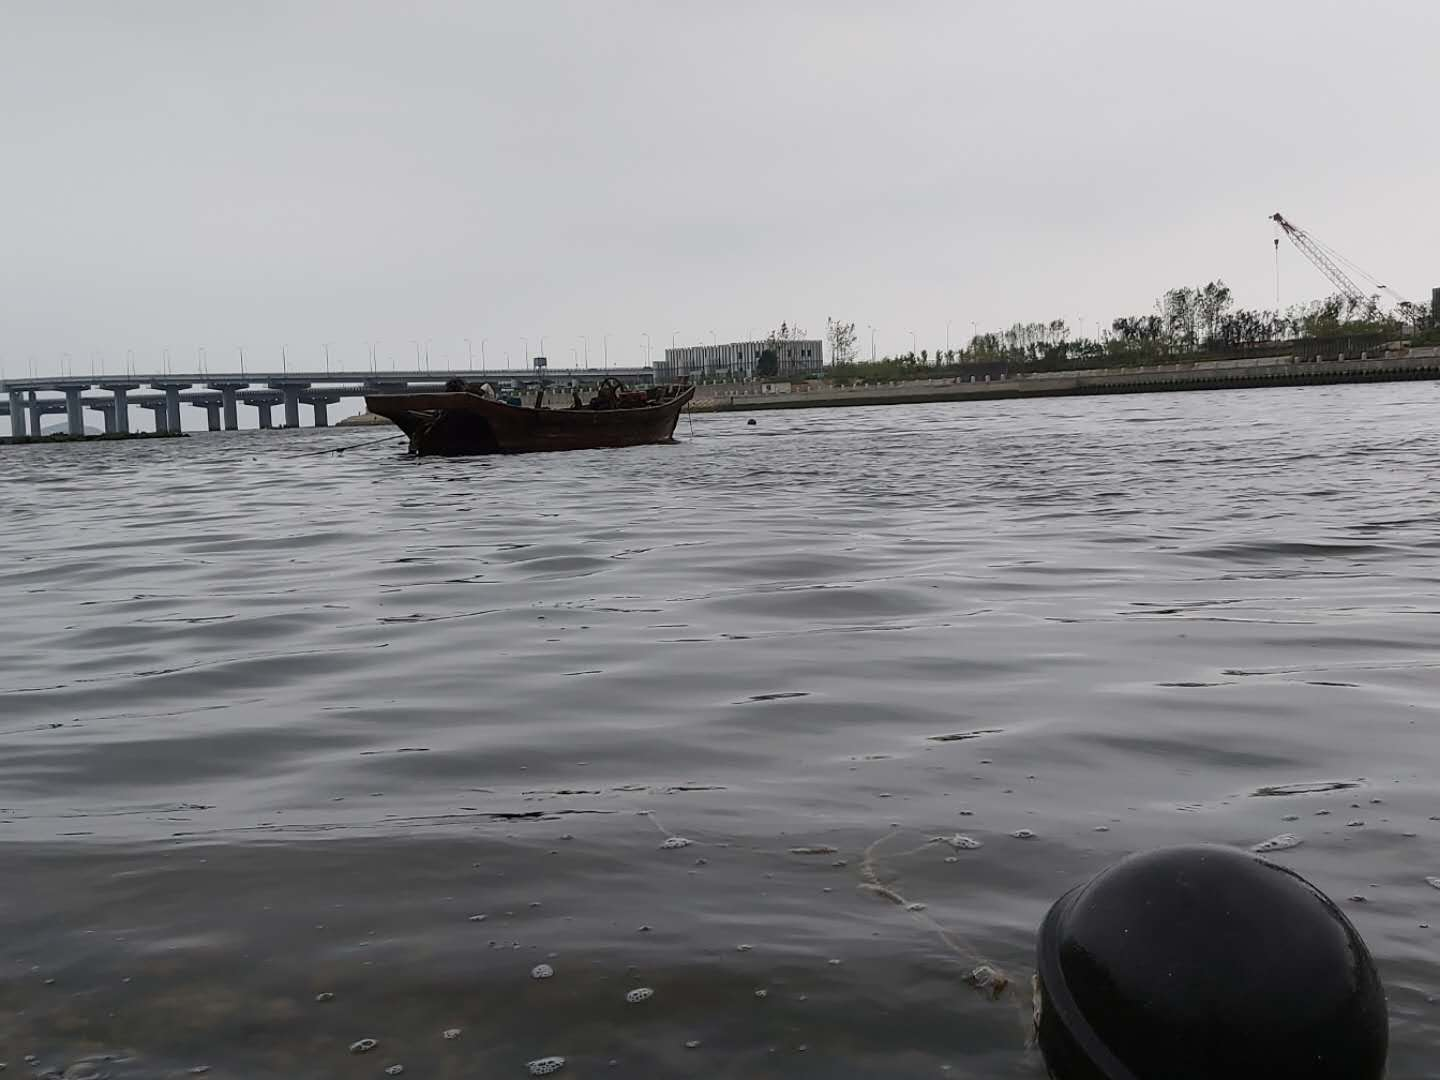ball: (1013, 820, 1401, 1070)
boat: (354, 376, 700, 459)
bridge: (9, 353, 342, 436)
